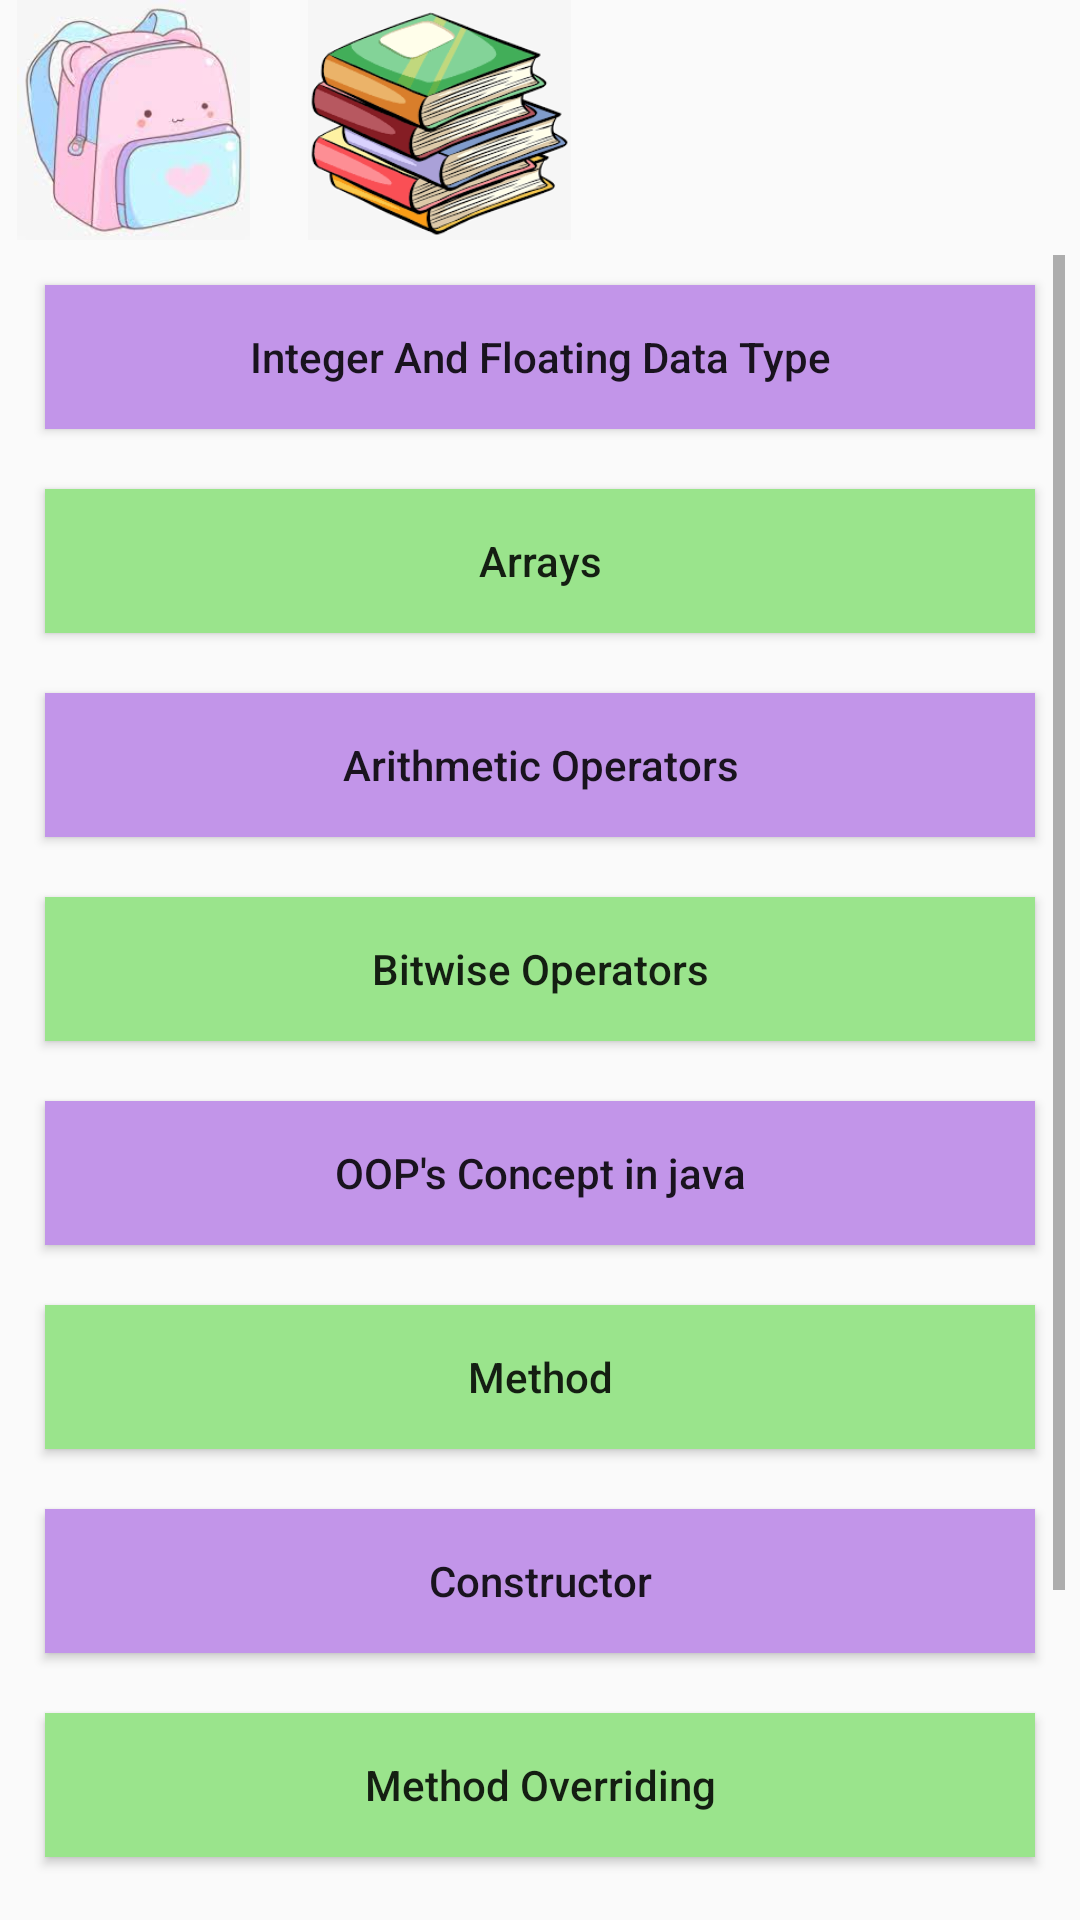

Icon bounding boxes for this 1080px x 1920px phone screenshot, format (x1, y1, x2, y2):
bag: (25, 8, 242, 232)
books: (311, 12, 568, 235)
